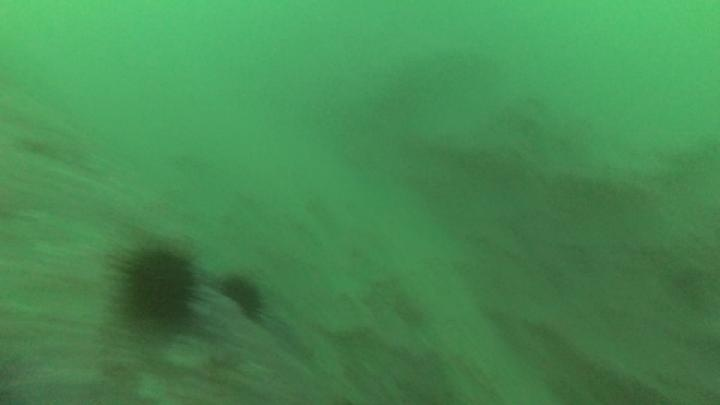echinus: (112, 239, 204, 333), (218, 271, 269, 321)
